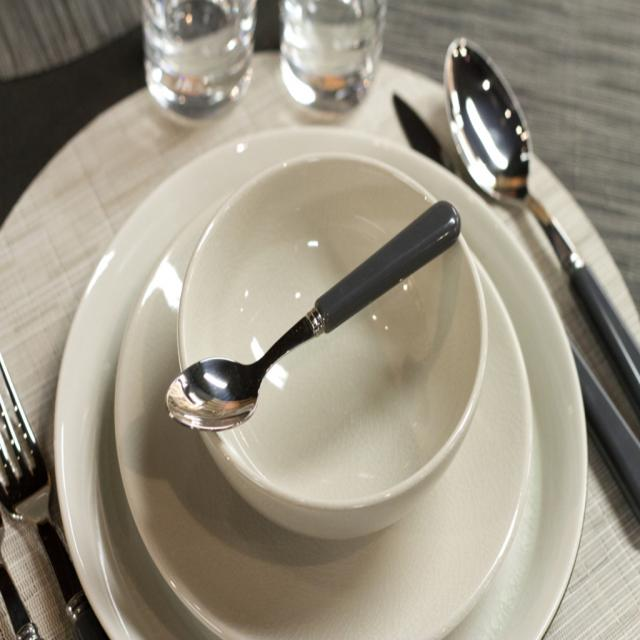non-organic waste: (48, 144, 581, 640)
